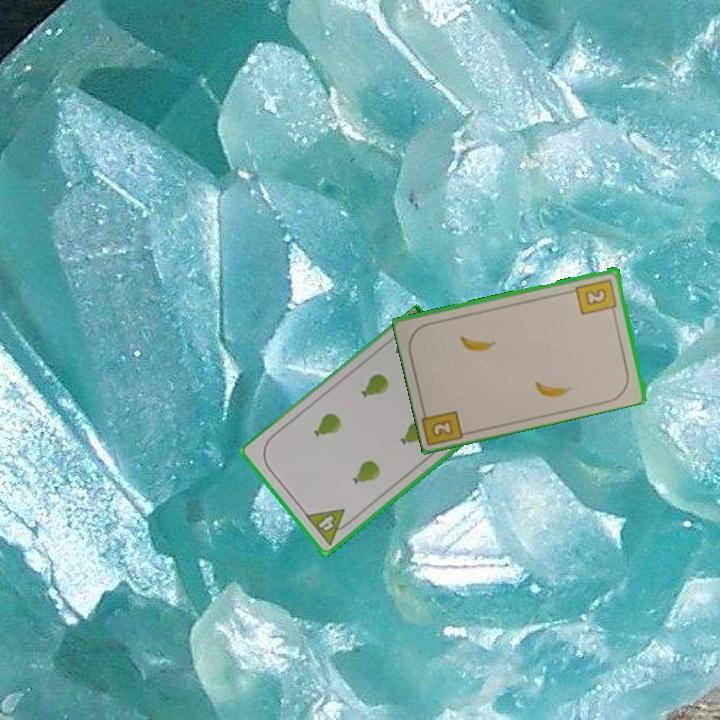2b: (573, 275, 620, 317), (428, 416, 456, 440)
4p: (302, 505, 356, 548)
